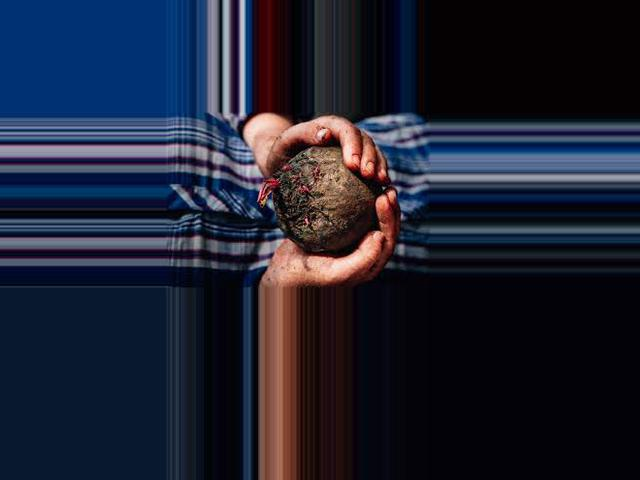beet: (256, 146, 377, 254)
